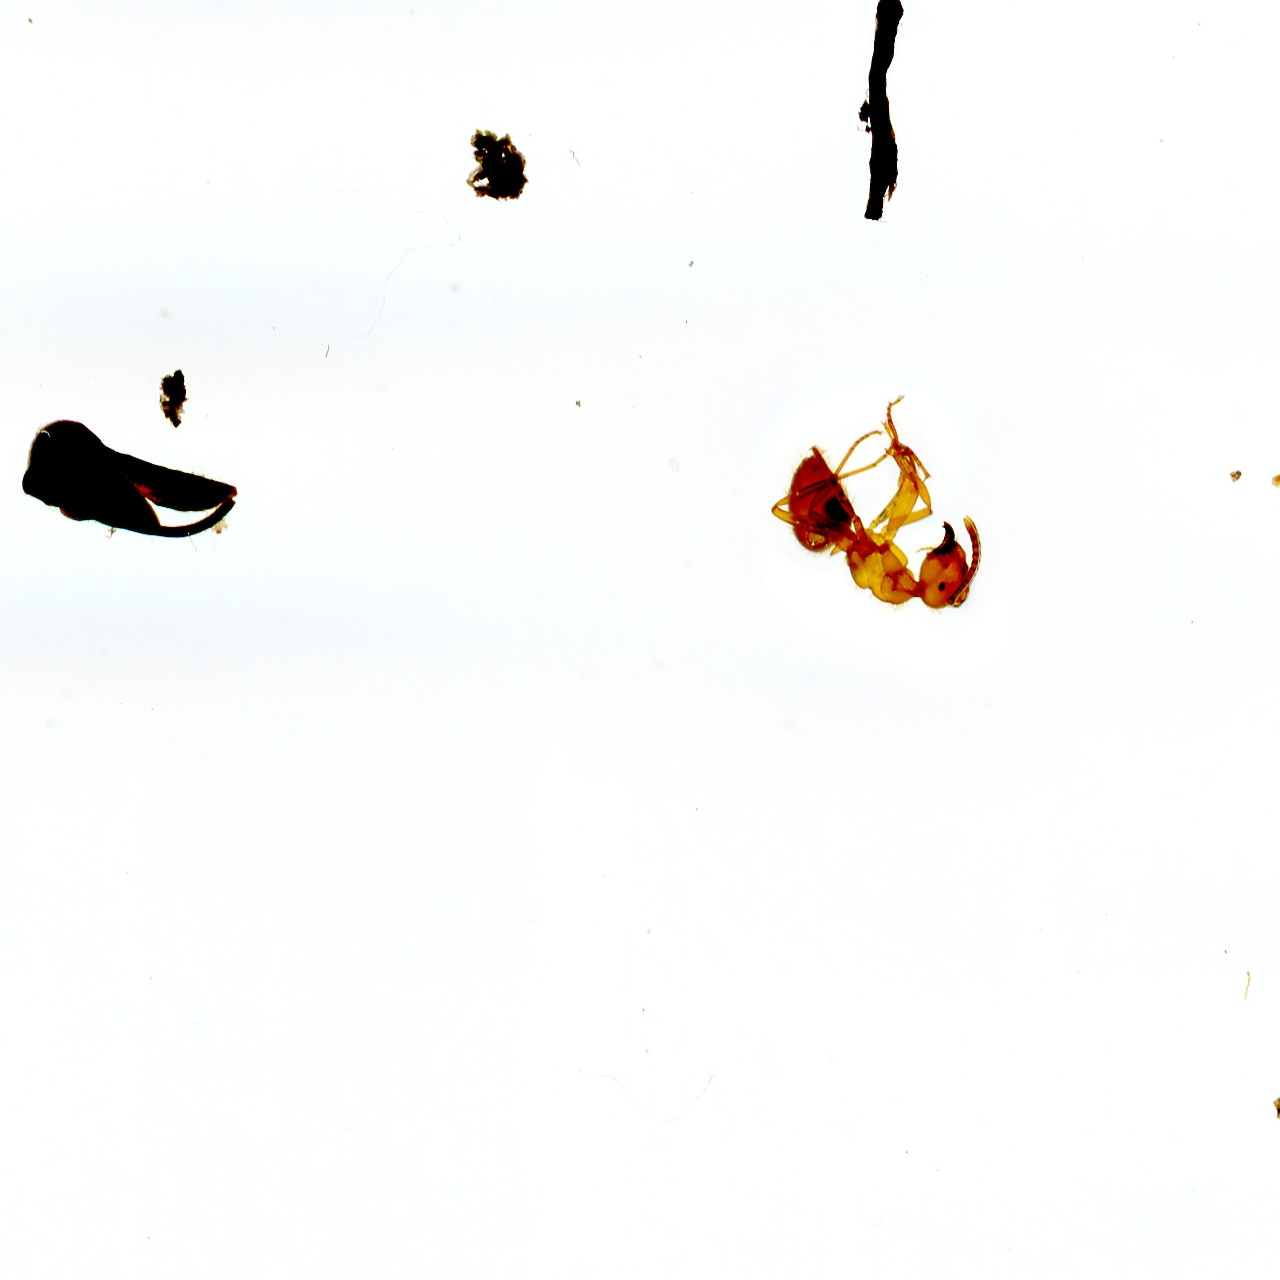arthropod: (764, 384, 993, 624)
